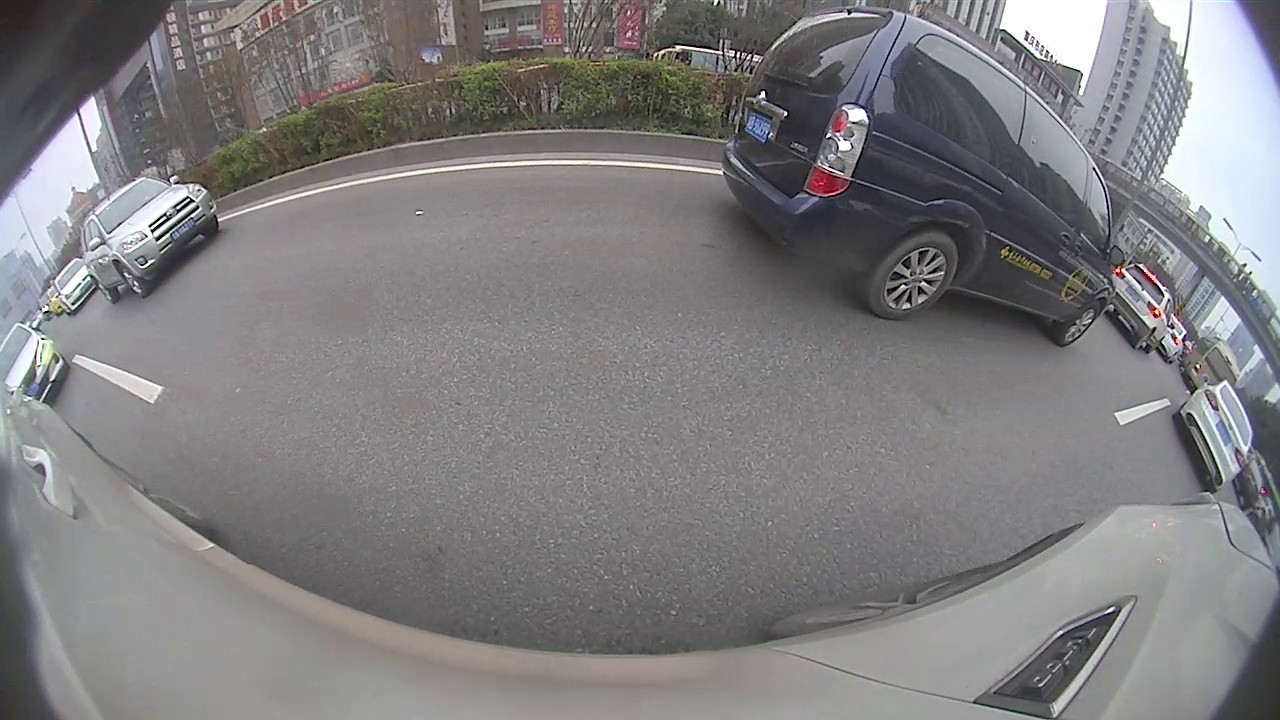car: (723, 10, 1126, 347), (78, 179, 221, 306), (1173, 382, 1254, 492), (1096, 261, 1174, 356)
front: (1057, 303, 1102, 345), (112, 263, 147, 297)
rear: (868, 227, 959, 321)
